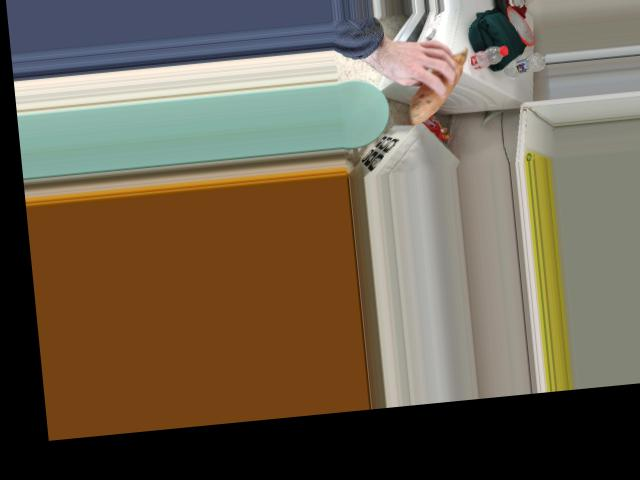sweet_potato: (404, 44, 471, 120)
